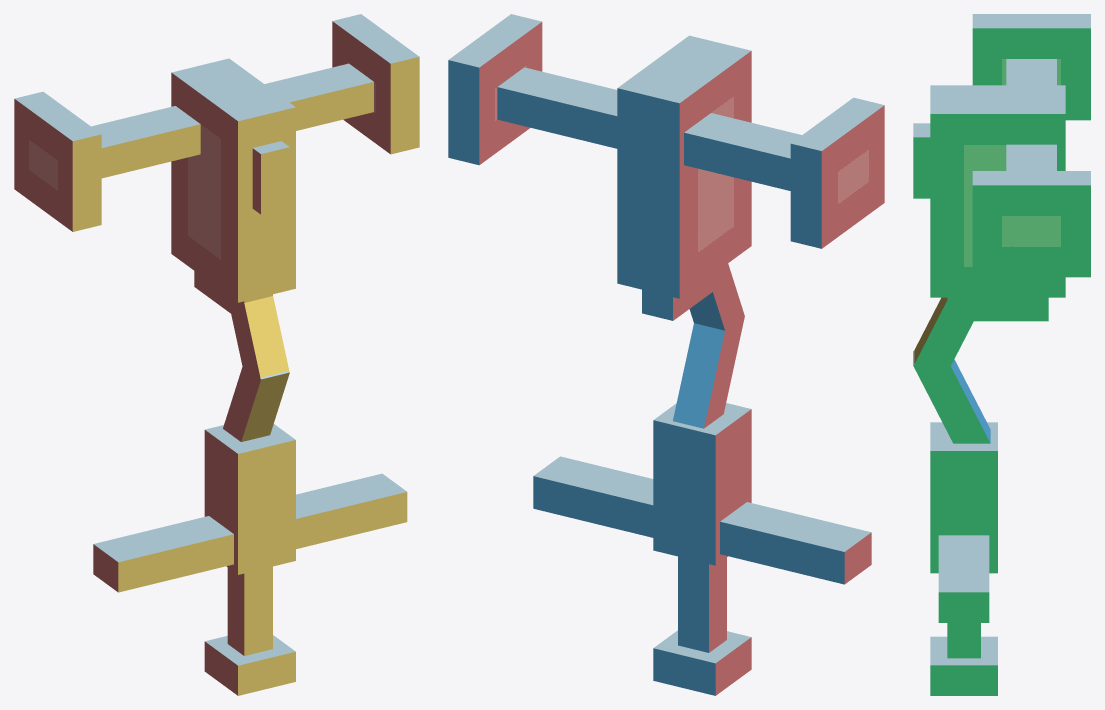
File: pogo_stick.glb
The picture shows the model from 3 angles, left to right: view 1: azimuth 30°, elevation 25°; view 2: azimuth 150°, elevation 25°; view 3: azimuth 270°, elevation 25°; orthographic projection. The views are drawn at different scales.
Parts seen in each view (by area): view 1: bone_2, bone_1, bone_13, bone_12, bone_9, bone_8, bone_10, bone_11, bone_0, bone_3, bone_6, bone_7 (+2 smaller); view 2: bone_2, bone_1, bone_13, bone_12, bone_9, bone_8, bone_11, bone_10, bone_7, bone_0, bone_3, bone_5 (+1 smaller); view 3: bone_2, bone_12, bone_13, bone_1, bone_8, bone_7, bone_0, bone_6, bone_5, bone_10, bone_11, bone_4 (+1 smaller).
Part boxes in pixels (x1,y1,x2,y2): bone_2: (171, 58, 295, 302); bone_1: (204, 424, 295, 574); bone_13: (14, 91, 101, 231); bone_12: (332, 14, 419, 154); bone_9: (93, 516, 233, 592); bone_8: (296, 473, 407, 548); bone_10: (91, 106, 200, 178); bone_11: (264, 63, 373, 130); bone_0: (204, 635, 295, 695); bone_3: (227, 566, 272, 655); bone_6: (227, 295, 289, 379); bone_7: (223, 356, 289, 441); bone_2: (617, 35, 751, 298); bone_1: (653, 403, 751, 565); bone_13: (790, 97, 884, 248); bone_12: (448, 14, 542, 165); bone_9: (720, 502, 871, 584); bone_8: (533, 456, 653, 537); bone_11: (497, 67, 617, 148); bone_10: (684, 113, 801, 190); bone_7: (673, 313, 744, 428); bone_0: (653, 630, 751, 695); bone_3: (678, 556, 726, 652); bone_5: (642, 264, 726, 320); bone_2: (930, 85, 1065, 297); bone_12: (972, 171, 1090, 277); bone_13: (972, 14, 1090, 120); bone_1: (930, 422, 997, 573); bone_8: (938, 535, 989, 622); bone_7: (913, 351, 990, 443); bone_0: (930, 636, 997, 695); bone_6: (914, 297, 985, 376); bone_5: (947, 297, 1048, 321); bone_10: (1006, 59, 1056, 85); bone_11: (1006, 144, 1056, 170); bone_4: (913, 123, 930, 198).
Bounding box in the file's own units: 0.75 × 1.19 × 0.3287.
Materials: 1 (1 with a texture image).
